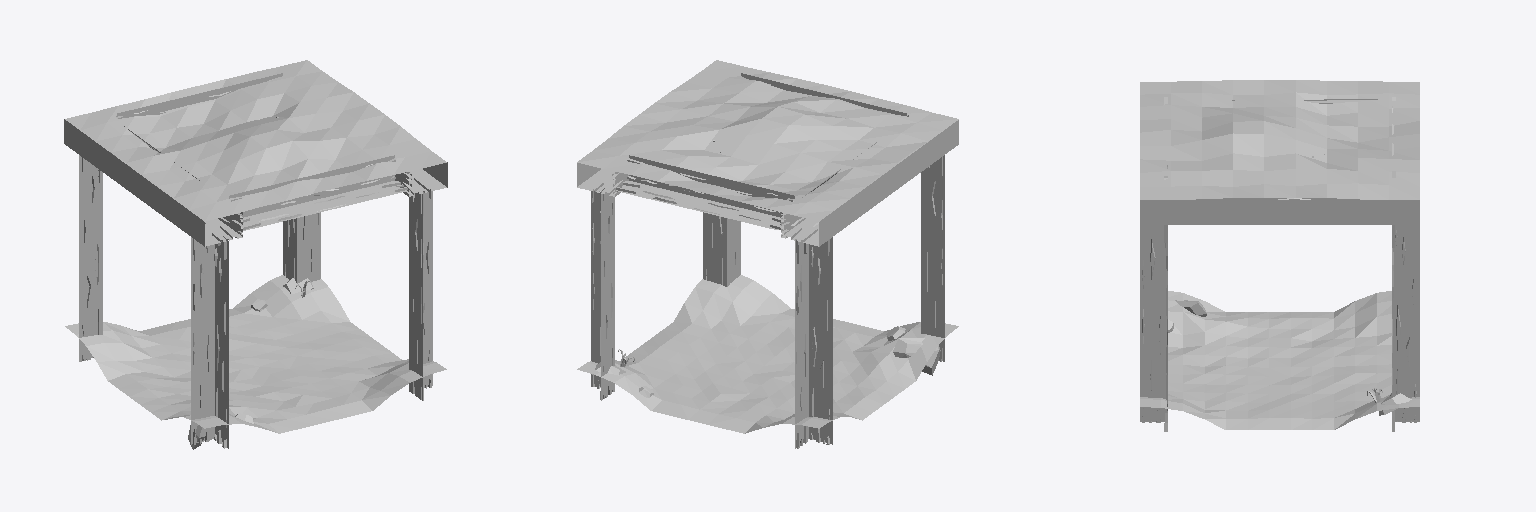
File: Basement_Var3.obj
3 renders of one model, left to right at view 1: azimuth 30°, elevation 25°; view 2: azimuth 150°, elevation 25°; view 3: azimuth 270°, elevation 25°, orthographic.
Parts seen in each view (by area): view 1: Basement_Var3; view 2: Basement_Var3; view 3: Basement_Var3.
Part boxes in pixels (x1,y1,x2,y2): Basement_Var3: (64, 60, 447, 449); Basement_Var3: (577, 60, 958, 448); Basement_Var3: (1140, 80, 1419, 431).
Size of the model in its own units: 4 by 4.06 by 4.